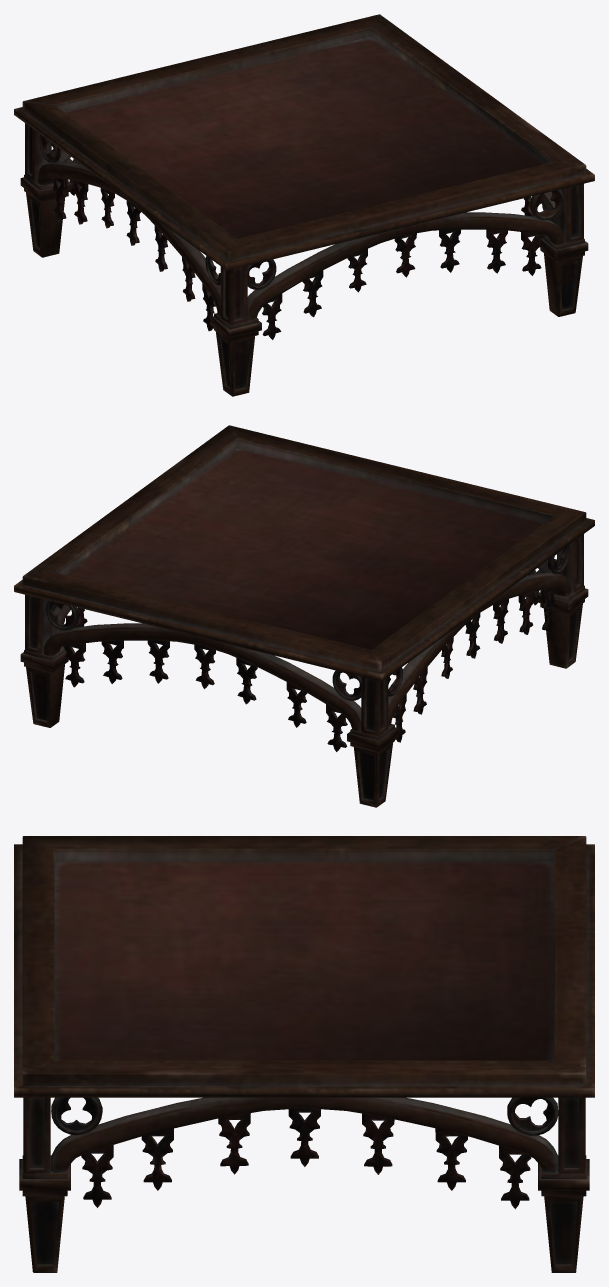
File: gothic_coffee_table.glb
The picture shows the model from 3 angles, top to bottom: view 1: azimuth 30°, elevation 25°; view 2: azimuth 150°, elevation 25°; view 3: azimuth 270°, elevation 25°; orthographic projection. The views are drawn at different scales.
Parts seen in each view (by area): view 1: gothic_coffee_table; view 2: gothic_coffee_table; view 3: gothic_coffee_table.
Part boxes in pixels (box(x1,y1,x2,y2)): gothic_coffee_table: box(14, 14, 594, 396); gothic_coffee_table: box(14, 425, 594, 807); gothic_coffee_table: box(14, 836, 594, 1272).
Size of the model in its own units: 1.44 by 0.5581 by 1.44.
Materials: 1 (1 with a texture image).
